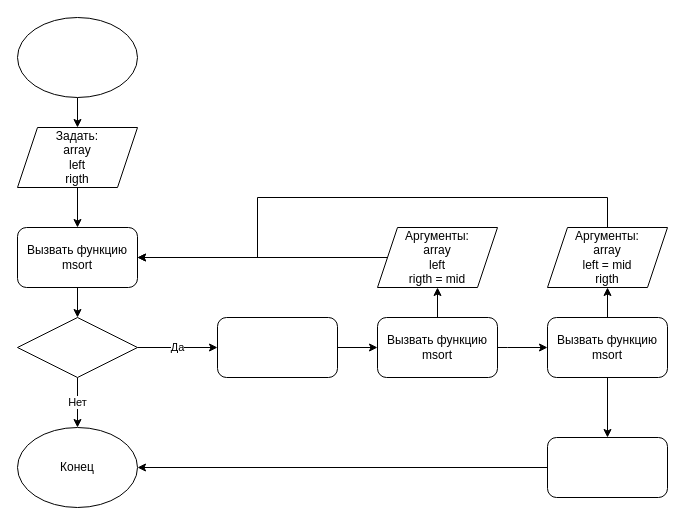
This 685x525 diagram has some shape labels left out. Each missing label, with the centre of its shape:
"left + 1 <= rigth" goes at pixel 77 347.
"Начало" goes at pixel 77 57.
"Объединить от left -> mid до mid -> right" goes at pixel 607 467.
"Определить середину" goes at pixel 277 347.
